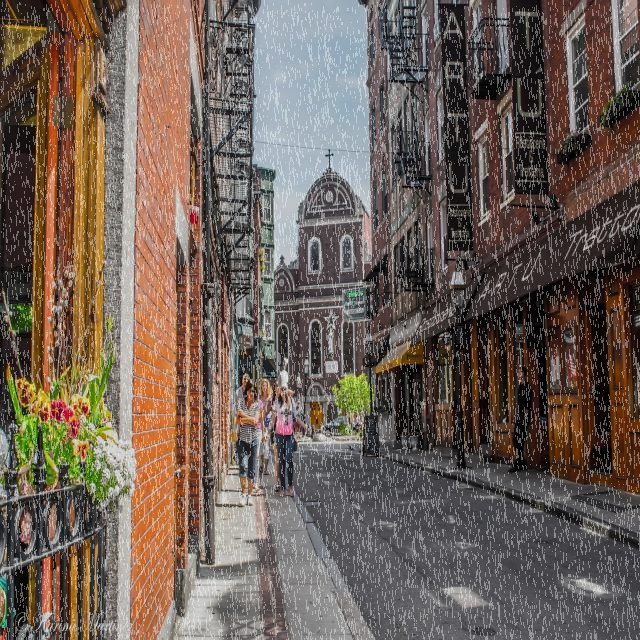pessoa: (262, 368, 310, 498), (228, 378, 262, 507), (261, 378, 296, 493), (508, 365, 532, 473), (258, 378, 273, 476), (254, 398, 266, 493), (232, 372, 252, 420), (325, 325, 337, 364), (294, 400, 304, 440), (354, 413, 360, 438)
